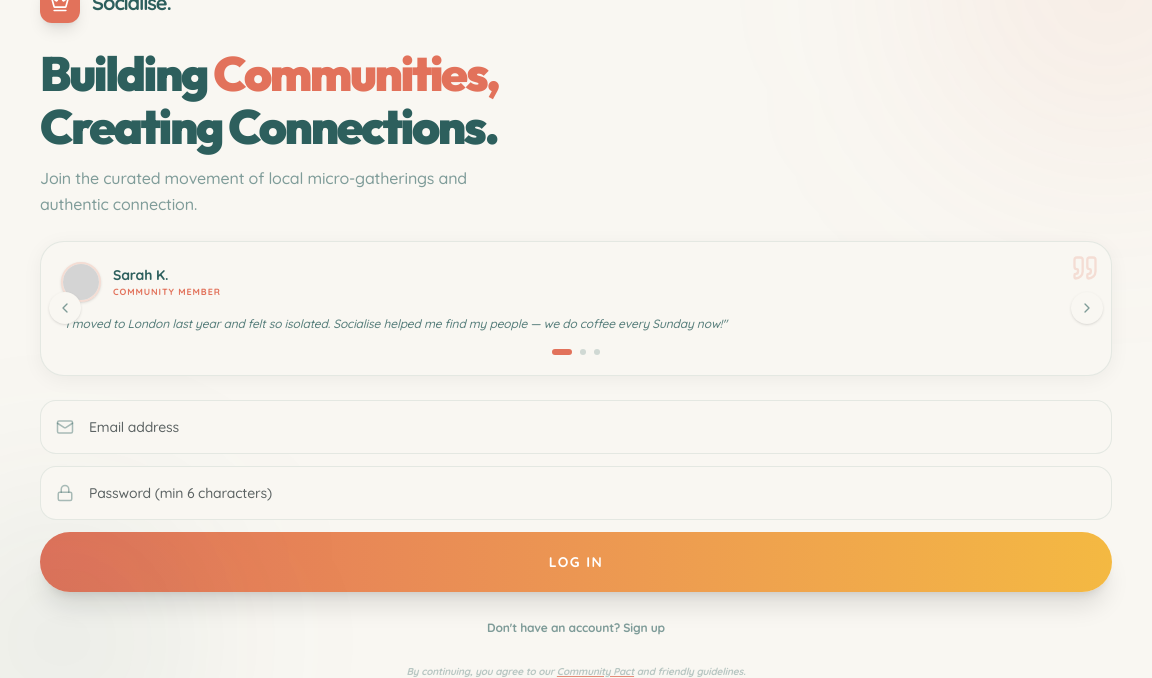
Test case: AuthScreen › Register mode › should require last name in register mode
(page scrolled)
Click the button "Don't have an account? Sign up" at (576, 628), box [40, 608, 1112, 648]
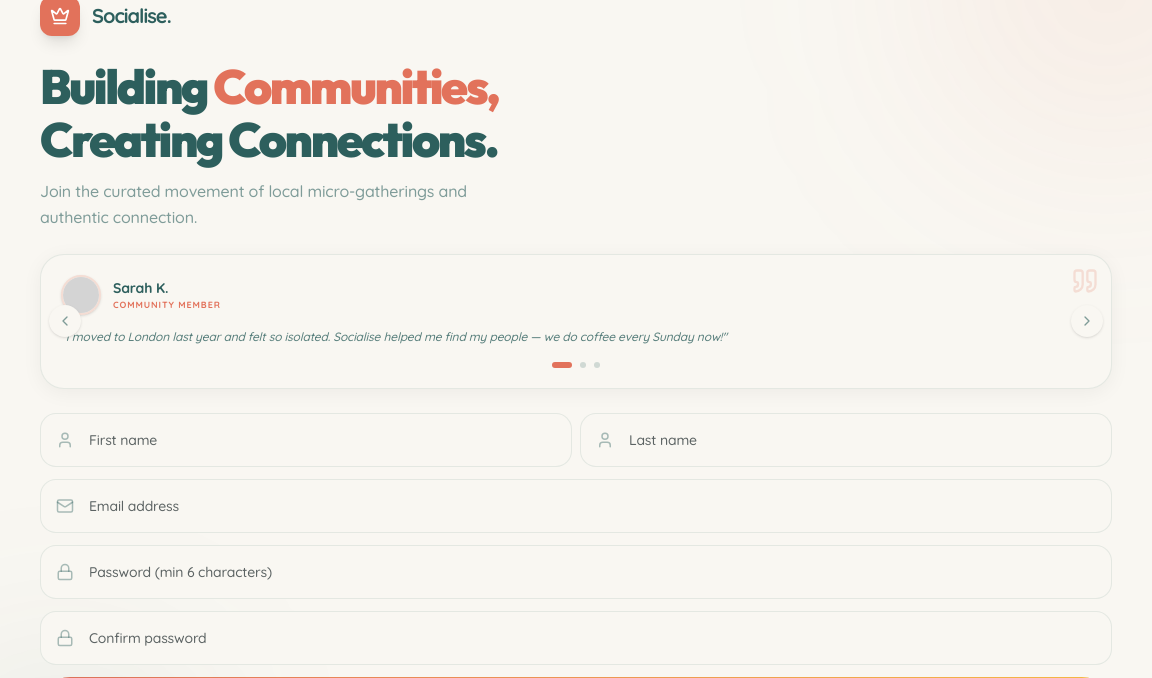
Type "John" into the field with placeholder "First name" at (306, 440), box [40, 413, 572, 467]
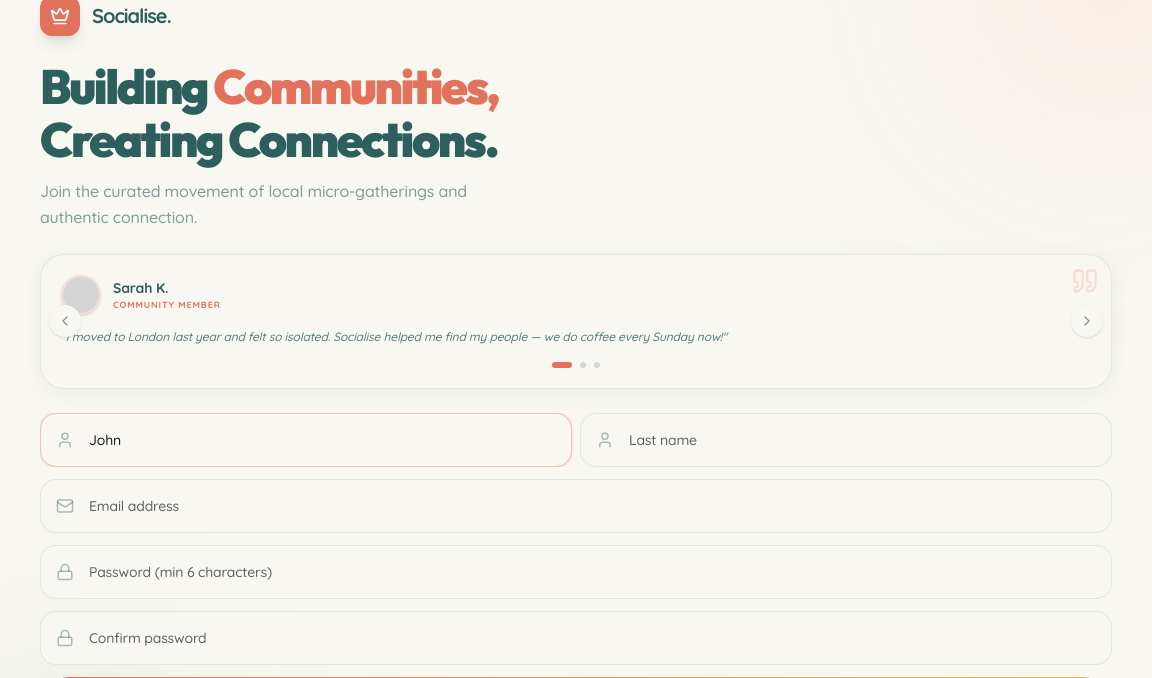
Type "john@example.com" into the field with placeholder "Email address" at (576, 506), box [40, 479, 1112, 533]
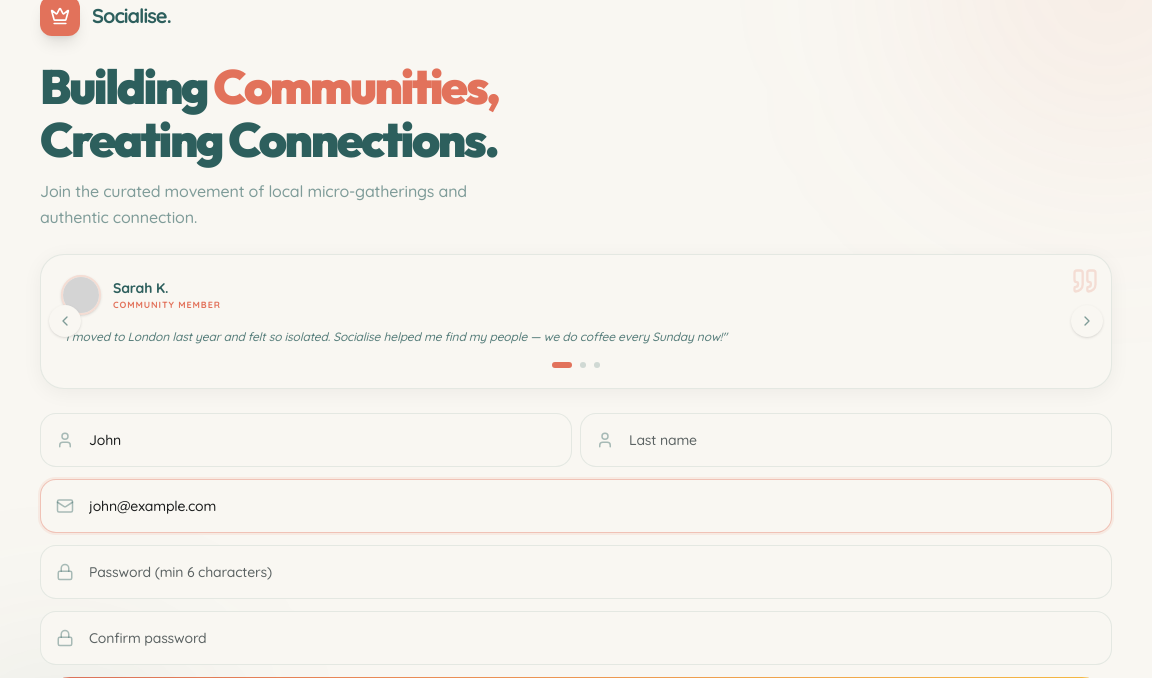
Type "password123" into the password field with placeholder "Password (min 6 characters)" at (576, 572), box [40, 545, 1112, 599]
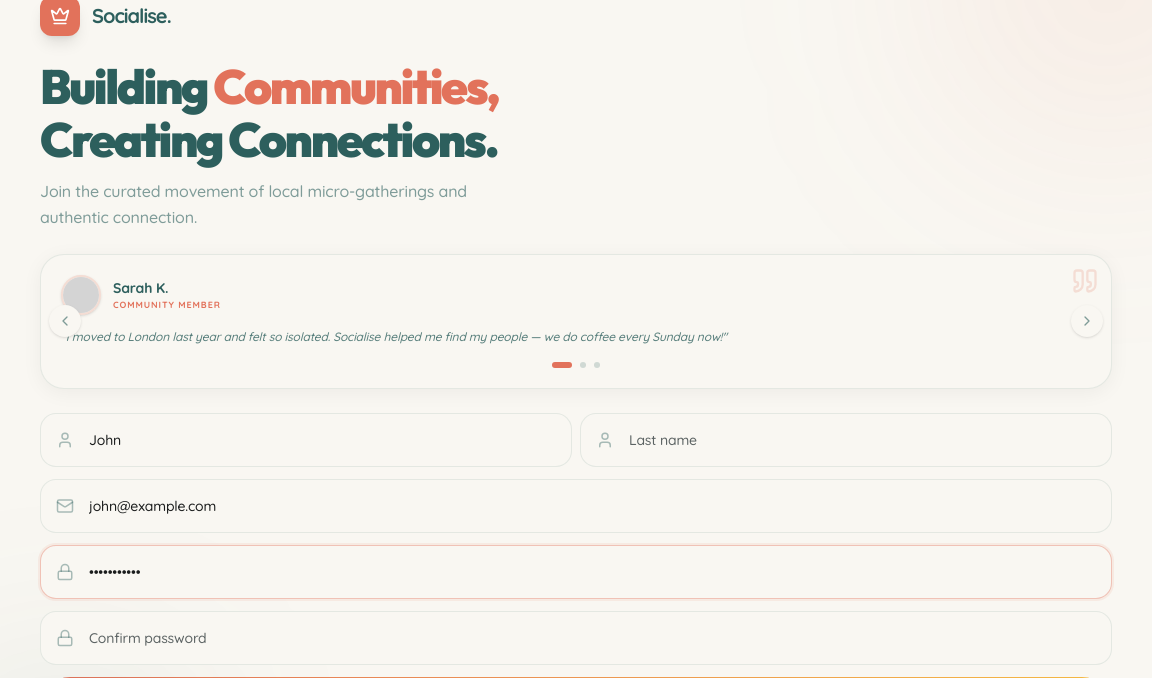
Type "password123" into the password field with placeholder "Confirm password" at (576, 638), box [40, 611, 1112, 665]
(page scrolled)
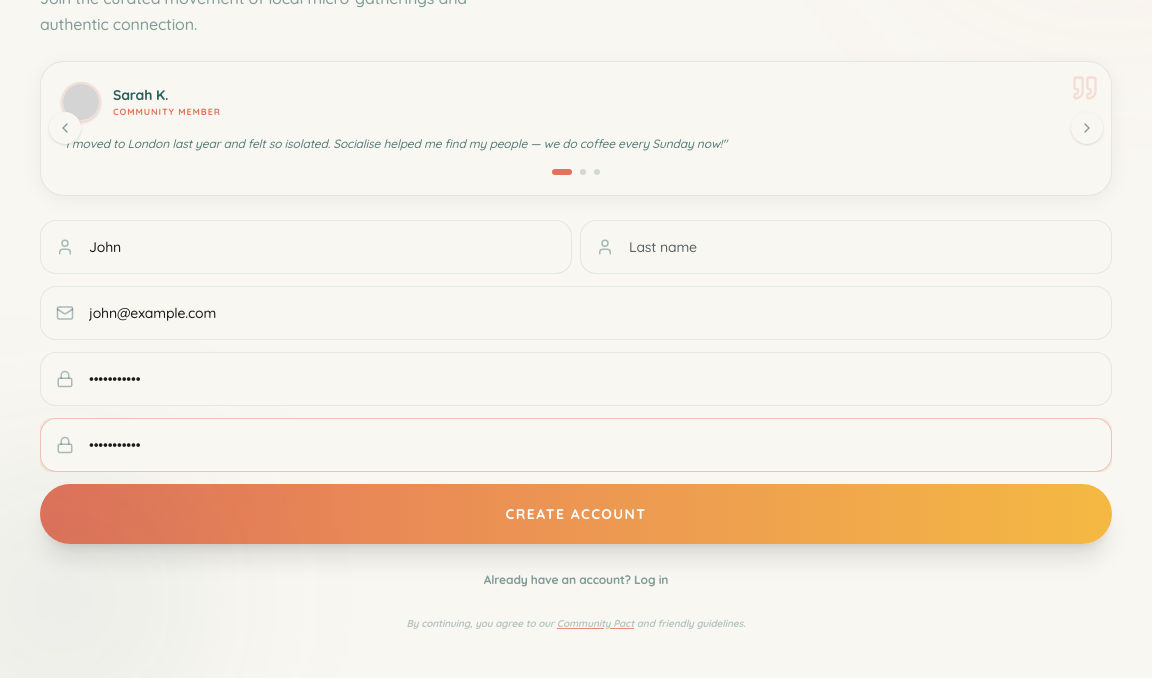
Click the button "Create Account" at (576, 514), box [40, 484, 1112, 544]
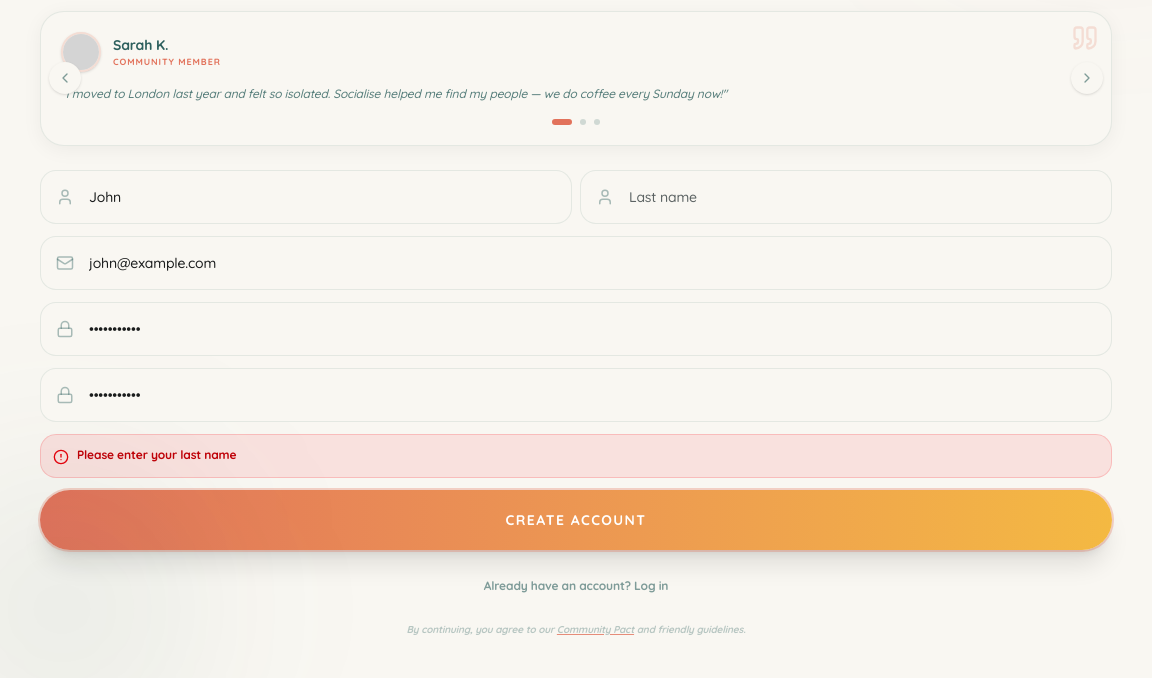
Check: the text "Please enter your last name" is shown, box [77, 447, 236, 463]
